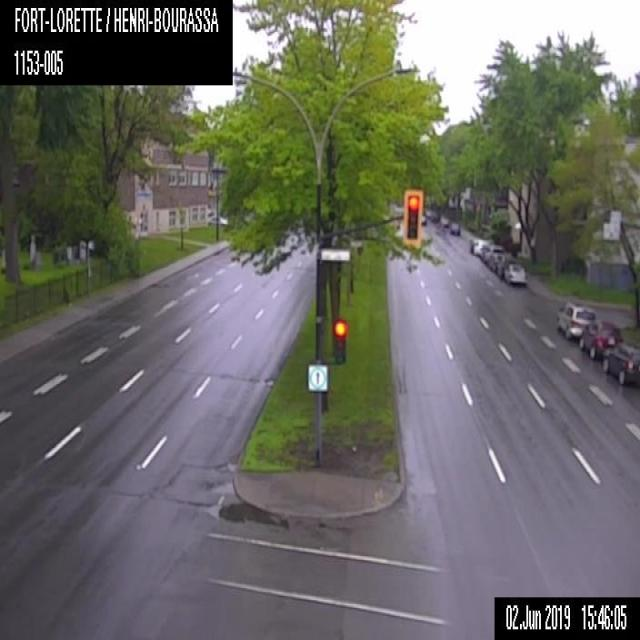vehicle: (578, 317, 622, 358), (602, 340, 639, 386), (556, 298, 596, 339), (504, 261, 526, 287), (483, 243, 504, 264), (487, 252, 508, 271), (472, 236, 492, 255), (498, 255, 516, 276), (479, 243, 492, 260), (448, 221, 460, 236), (439, 214, 451, 226), (420, 215, 426, 224)
